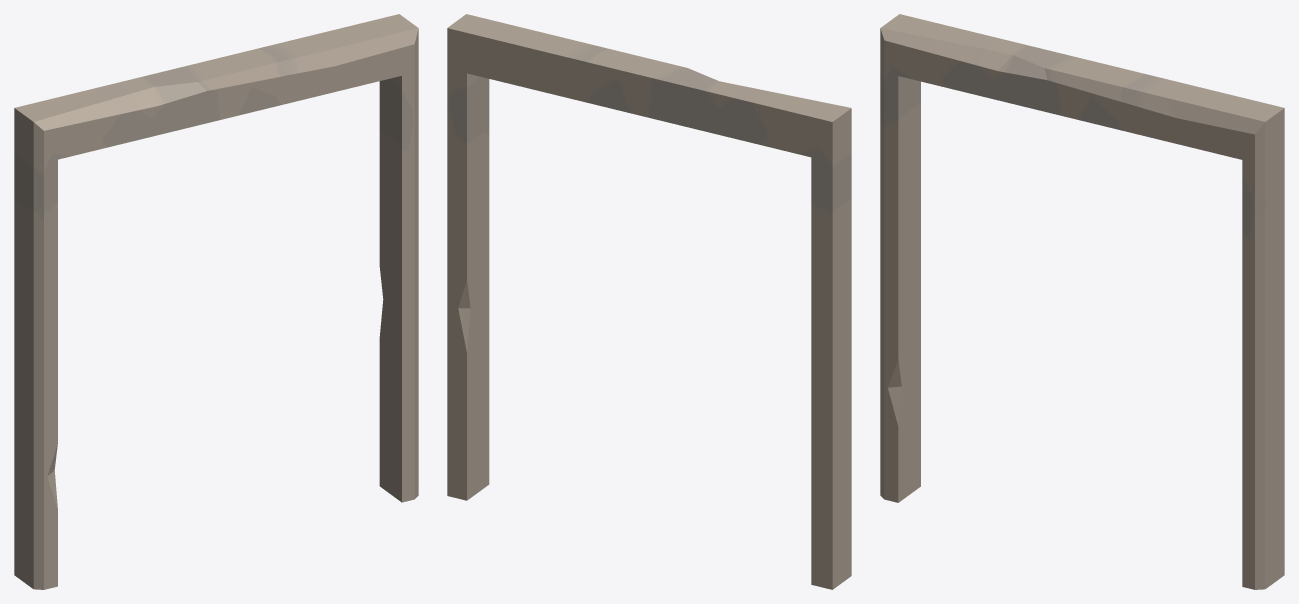
Rendered from SM_Bld_Shop_Door_03.fbx.
3 renders of one model, left to right at view 1: azimuth 30°, elevation 25°; view 2: azimuth 150°, elevation 25°; view 3: azimuth 330°, elevation 25°, orthographic.
Parts seen in each view (by area): view 1: SM_Bld_Shop_Door_03; view 2: SM_Bld_Shop_Door_03; view 3: SM_Bld_Shop_Door_03.
Part boxes in pixels (box(x1,y1,x2,y2)): SM_Bld_Shop_Door_03: box(14, 14, 418, 589); SM_Bld_Shop_Door_03: box(447, 14, 851, 589); SM_Bld_Shop_Door_03: box(880, 14, 1284, 589).
Bounding box in the file's own units: 230 × 266 × 23.14.
